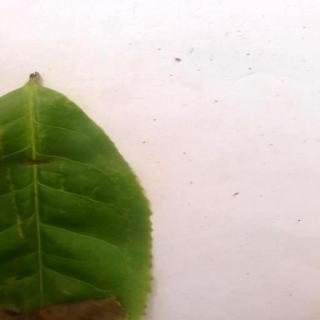Brown Blight: (1, 71, 157, 320)
